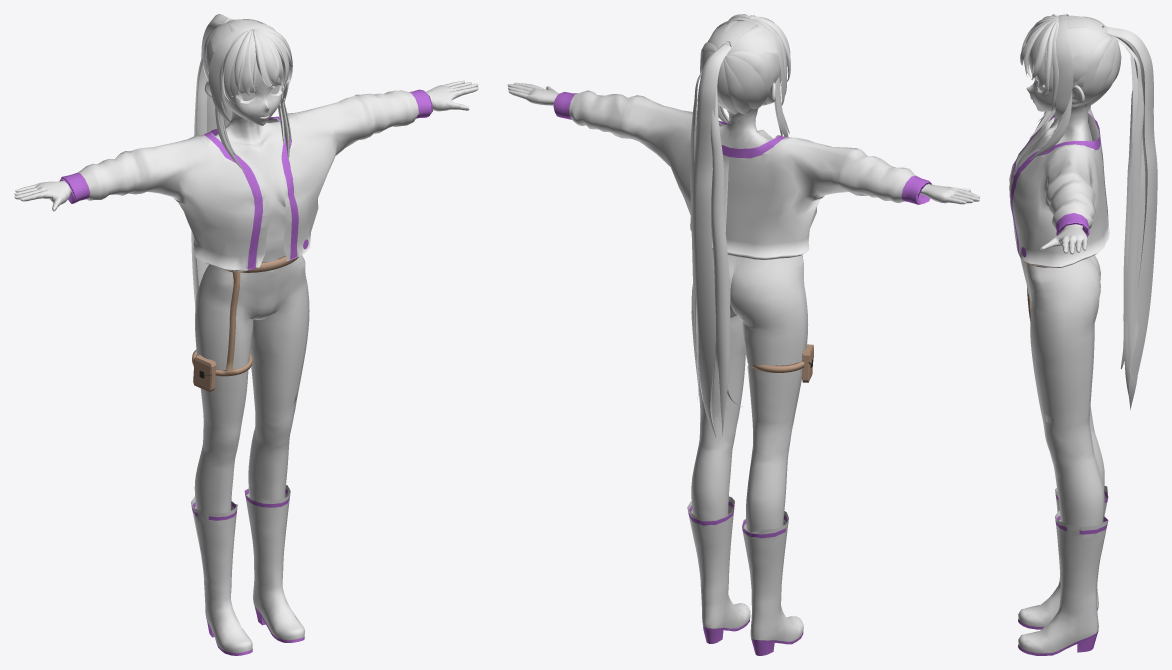
The model's file is Amber.fbx.
The picture shows the model from 3 angles, left to right: view 1: azimuth 30°, elevation 25°; view 2: azimuth 150°, elevation 25°; view 3: azimuth 270°, elevation 25°; orthographic projection.
Parts seen in each view (by area): view 1: Body, Hair, Face, Bag; view 2: Body, Hair; view 3: Body, Hair, Face.
Part boxes in pixels (bbox=[...]): Body: bbox=[14, 52, 478, 655]; Hair: bbox=[191, 14, 292, 305]; Face: bbox=[204, 68, 284, 125]; Bag: bbox=[193, 355, 216, 391]; Body: bbox=[507, 24, 980, 655]; Hair: bbox=[690, 14, 790, 437]; Body: bbox=[1009, 31, 1111, 655]; Hair: bbox=[1020, 14, 1157, 410]; Face: bbox=[1026, 76, 1084, 111].
Bounding box in the file's own units: 2.8 × 3.5 × 0.7607.
